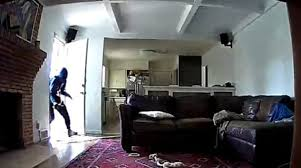Person: (45, 66, 79, 140)
